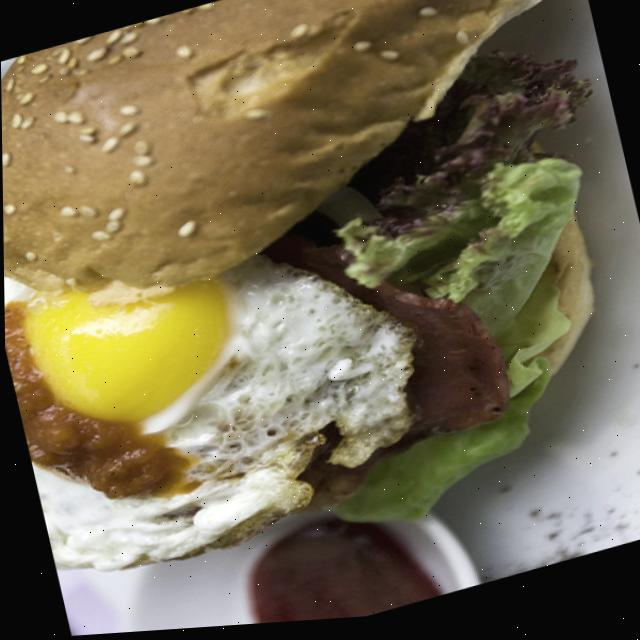鸡蛋料理: (1, 101, 491, 632)
